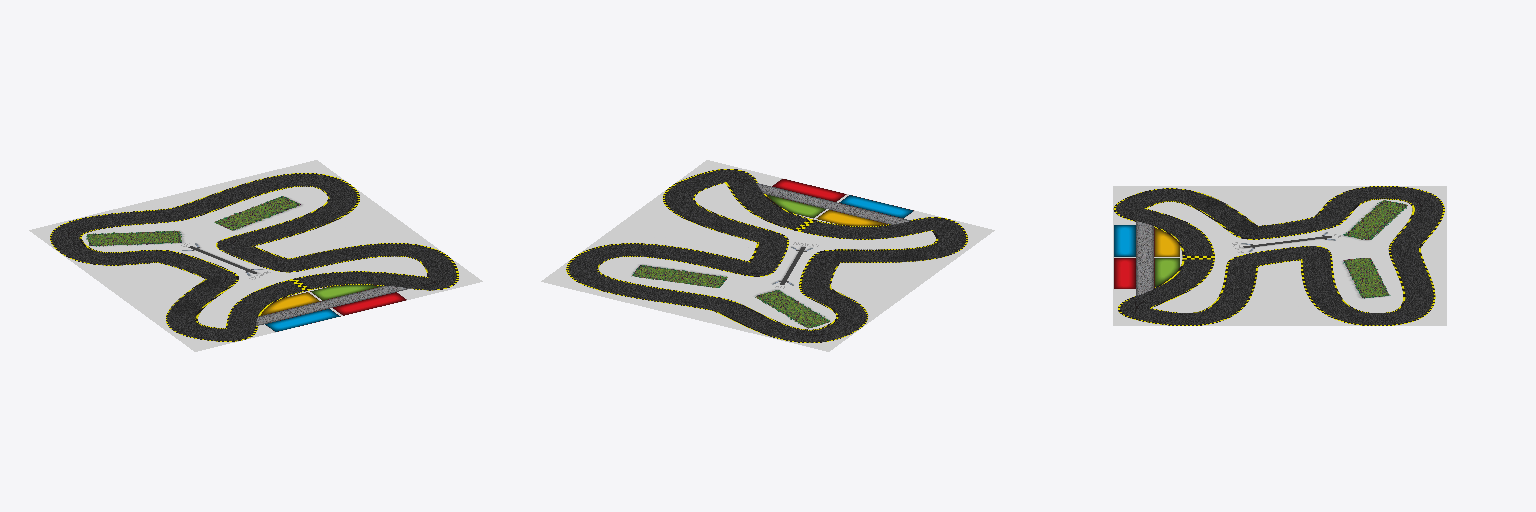
3 renders of one model, left to right at view 1: azimuth 30°, elevation 25°; view 2: azimuth 150°, elevation 25°; view 3: azimuth 270°, elevation 25°, orthographic.
Visible parts, largest first — view 1: Plane; view 2: Plane; view 3: Plane.
Boxes of the visible parts, x1=… form: Plane: x1=29, y1=160, x2=482, y2=351; Plane: x1=541, y1=160, x2=994, y2=351; Plane: x1=1113, y1=186, x2=1446, y2=325.
Size of the model in its own units: 16 by 0 by 16.
Materials: 1 (1 with a texture image).